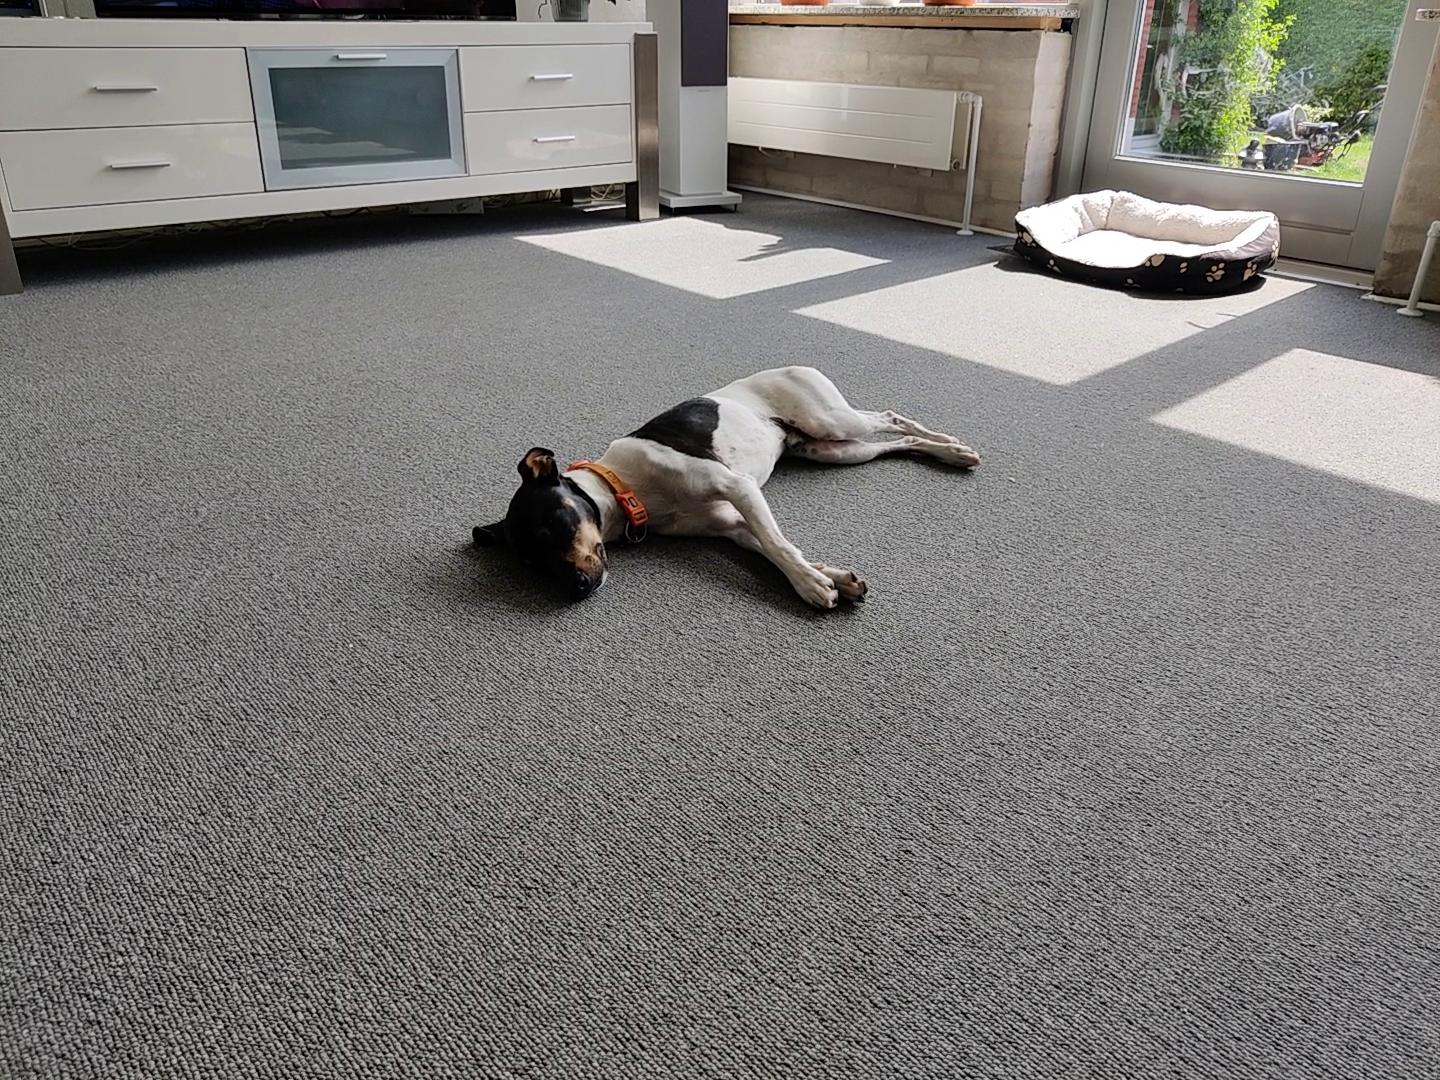Dog: (444, 357, 1000, 622)
